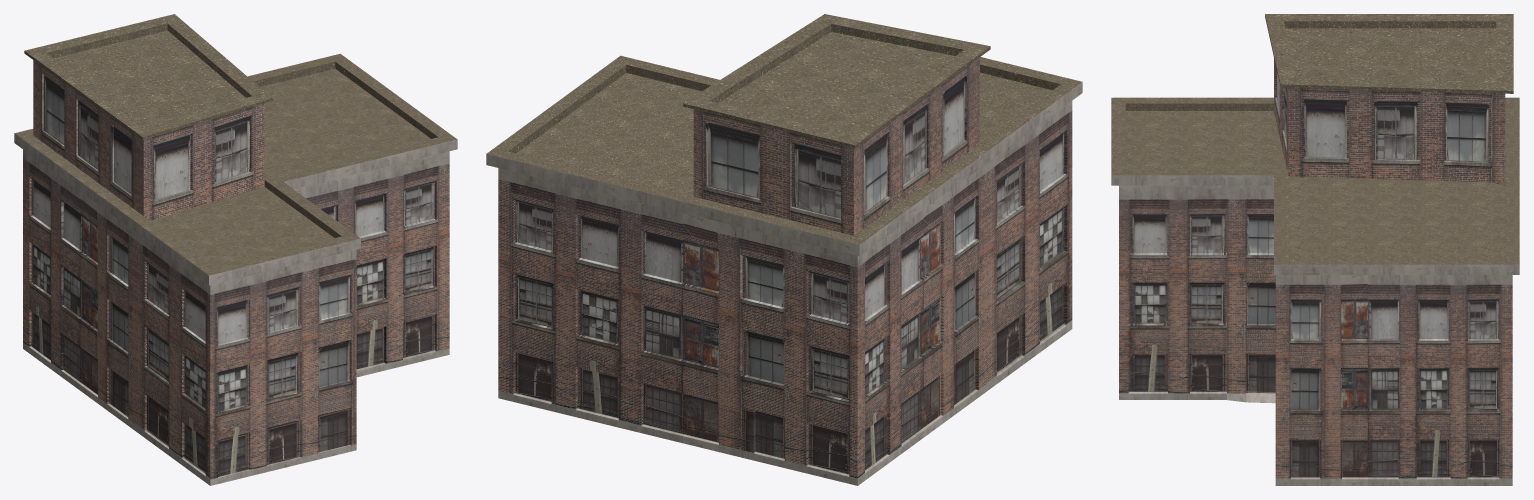
The model's file is industrial_building_spicybamer.glb.
3 views of the same model, side by side, from view 1: azimuth 30°, elevation 25°; view 2: azimuth 150°, elevation 25°; view 3: azimuth 270°, elevation 25° (orthographic). The views are drawn at different scales.
Parts seen in each view (by area): view 1: Cube_0, Cube.001_3; view 2: Cube_0, Cube.001_3; view 3: Cube_0, Cube.001_3.
Boxes of the visible parts, x1=… form: Cube_0: x1=14, y1=53, x2=457, y2=485; Cube.001_3: x1=24, y1=14, x2=272, y2=220; Cube_0: x1=486, y1=55, x2=1082, y2=485; Cube.001_3: x1=683, y1=14, x2=990, y2=235; Cube_0: x1=1111, y1=97, x2=1519, y2=485; Cube.001_3: x1=1265, y1=14, x2=1513, y2=182.
Size of the model in its own units: 3.34 by 2.91 by 3.45.
2 materials, 2 textured.
